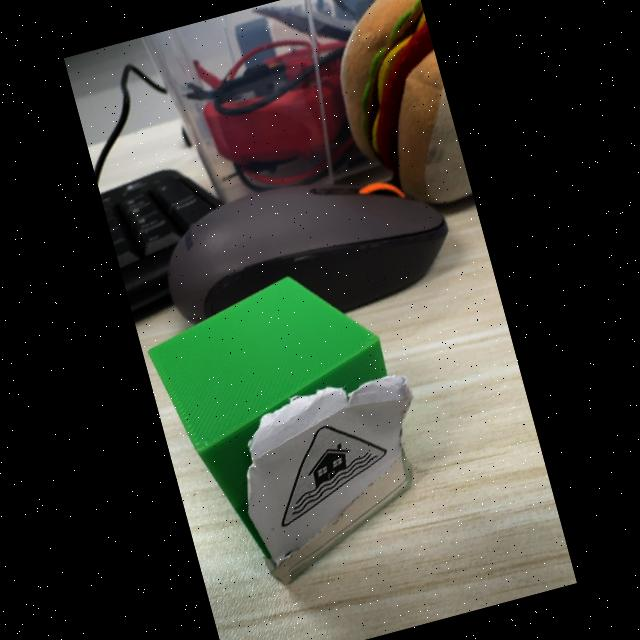Tsunami: (281, 425, 386, 526)
